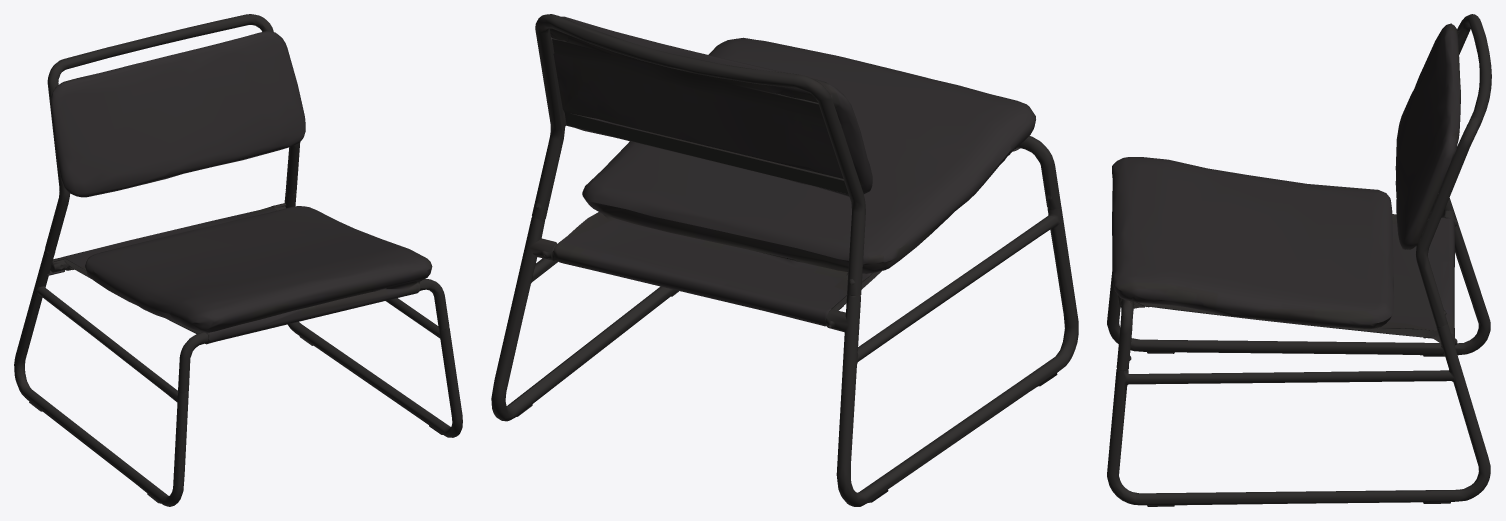
The picture shows the model from 3 angles, left to right: view 1: azimuth 30°, elevation 25°; view 2: azimuth 150°, elevation 25°; view 3: azimuth 270°, elevation 25°; orthographic projection. The views are drawn at different scales.
Parts seen in each view (by area): view 1: ProcessedMeshNode; view 2: ProcessedMeshNode; view 3: ProcessedMeshNode.
Boxes of the visible parts, x1,y1,x2,y2 form: ProcessedMeshNode: (14,14,462,506); ProcessedMeshNode: (491,14,1078,506); ProcessedMeshNode: (1107,14,1491,506).
Bounding box in the file's own units: 0.6804 × 0.7241 × 0.6967.
Materials: 2 (2 with a texture image).
